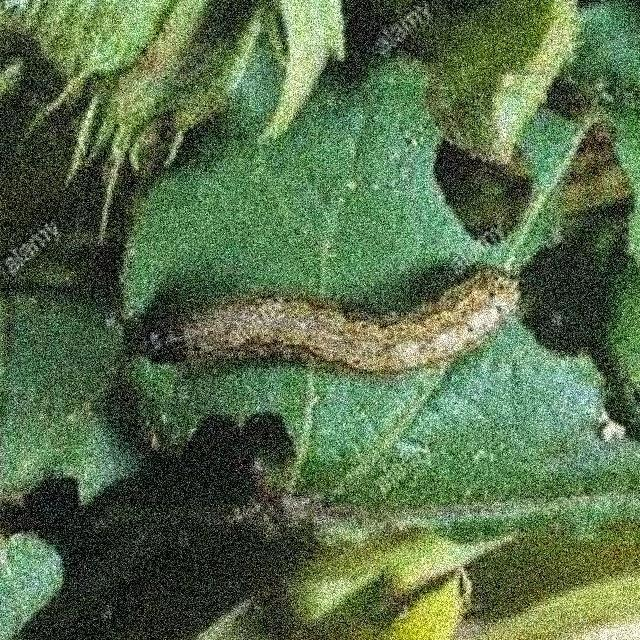gusano_cogollero: (122, 262, 524, 384)
